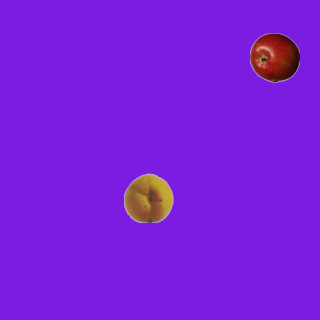Apple Braeburn: (249, 32, 299, 82)
Peach 2: (123, 172, 173, 222)
